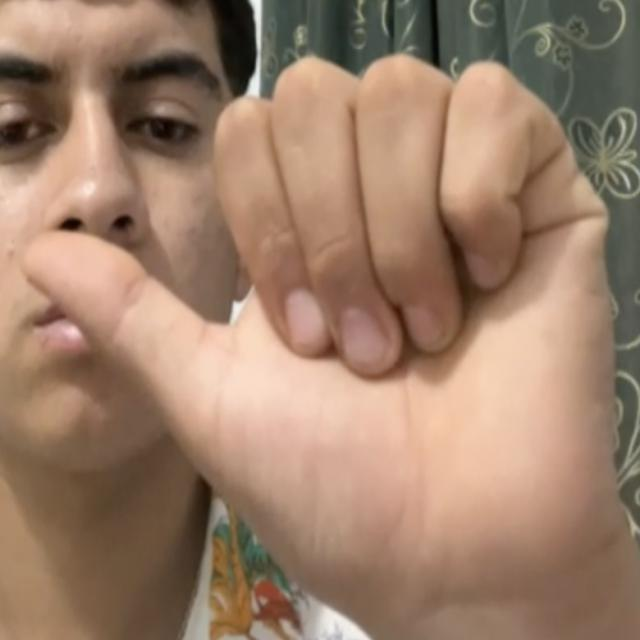A: (13, 38, 632, 635)
